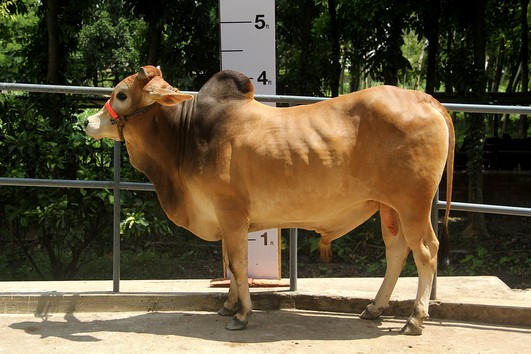cow: (77, 58, 459, 339)
